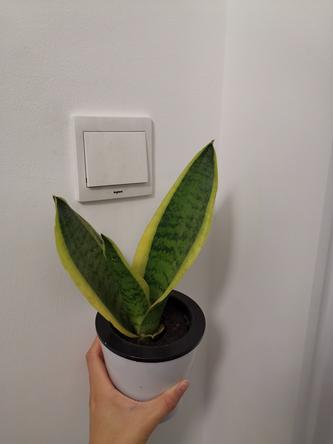switch: (78, 123, 152, 189)
